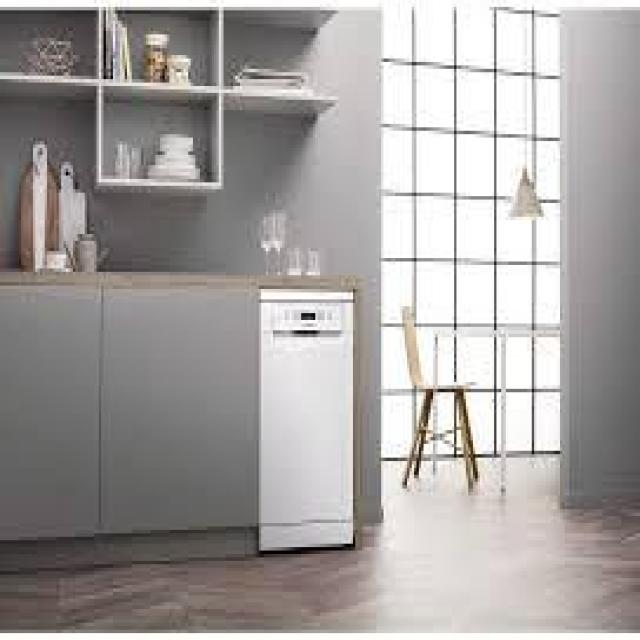dishwasher: (252, 282, 360, 558)
